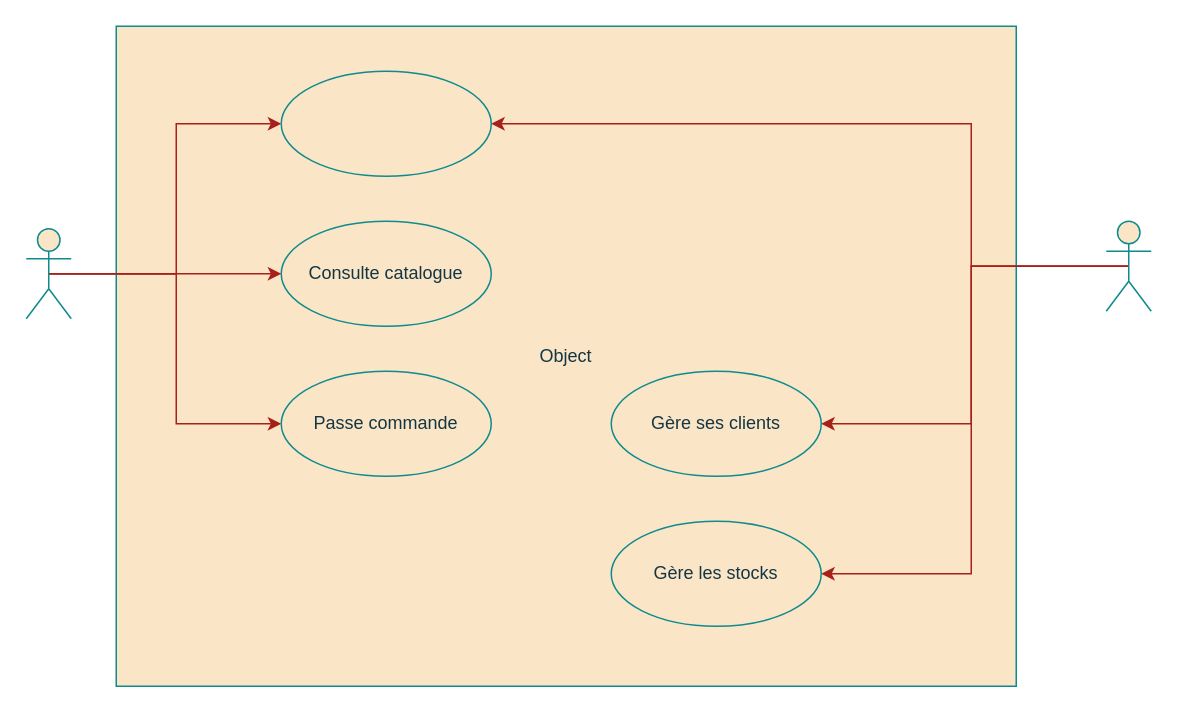
Image size: 1203x713. Some labels were removed from this diagram. The shapes that lost their labels are listed below. From the top down, each one's centre as x and y in pixels, then its label:
At point (385, 123): "Se connecte".
At point (48, 273): "Client".
At point (1128, 265): "Commercial".
